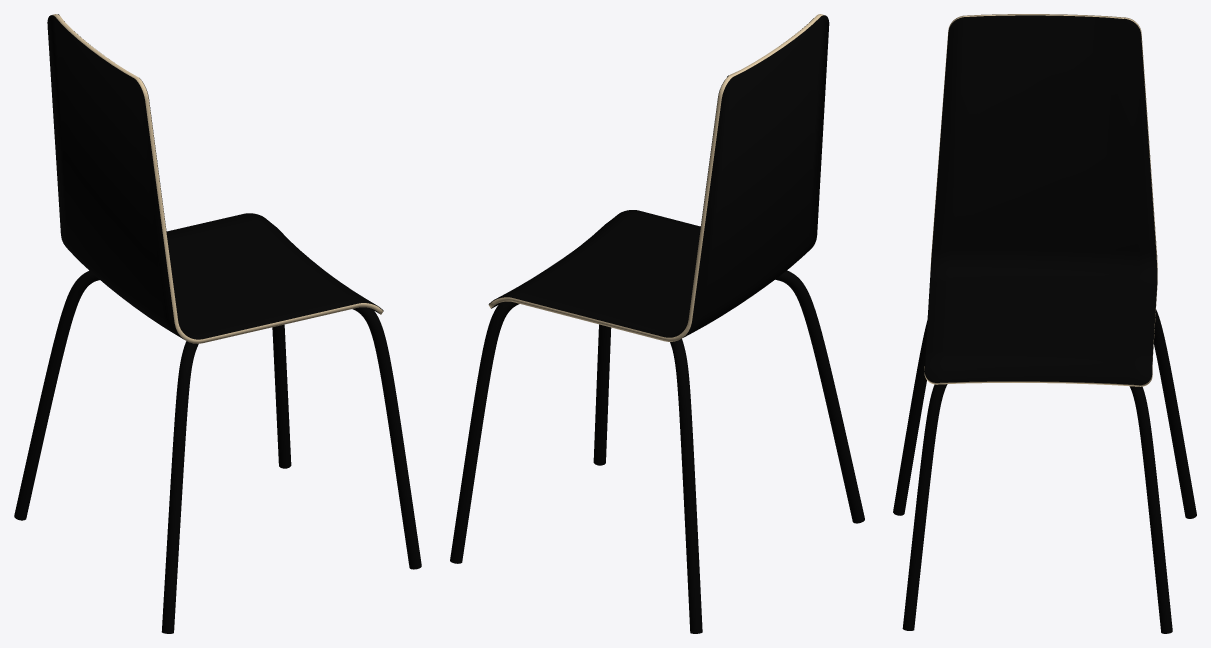
File: sillaa.dae
3 renders of one model, left to right at view 1: azimuth 30°, elevation 25°; view 2: azimuth 150°, elevation 25°; view 3: azimuth 270°, elevation 25°, orthographic. The views are drawn at different scales.
Parts seen in each view (by area): view 1: Chaise; view 2: Chaise; view 3: Chaise.
Part boxes in pixels (<box>): Chaise: <box>14,14,421,633</box>; Chaise: <box>450,14,864,633</box>; Chaise: <box>893,14,1196,633</box>.
Bounding box in the file's own units: 0.2458 × 0.2538 × 0.4604.
